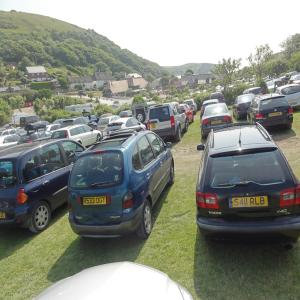Vehicle-registration-plate: (230, 197, 269, 209), (84, 197, 107, 206), (270, 113, 283, 117), (213, 121, 223, 125), (153, 126, 157, 131)
